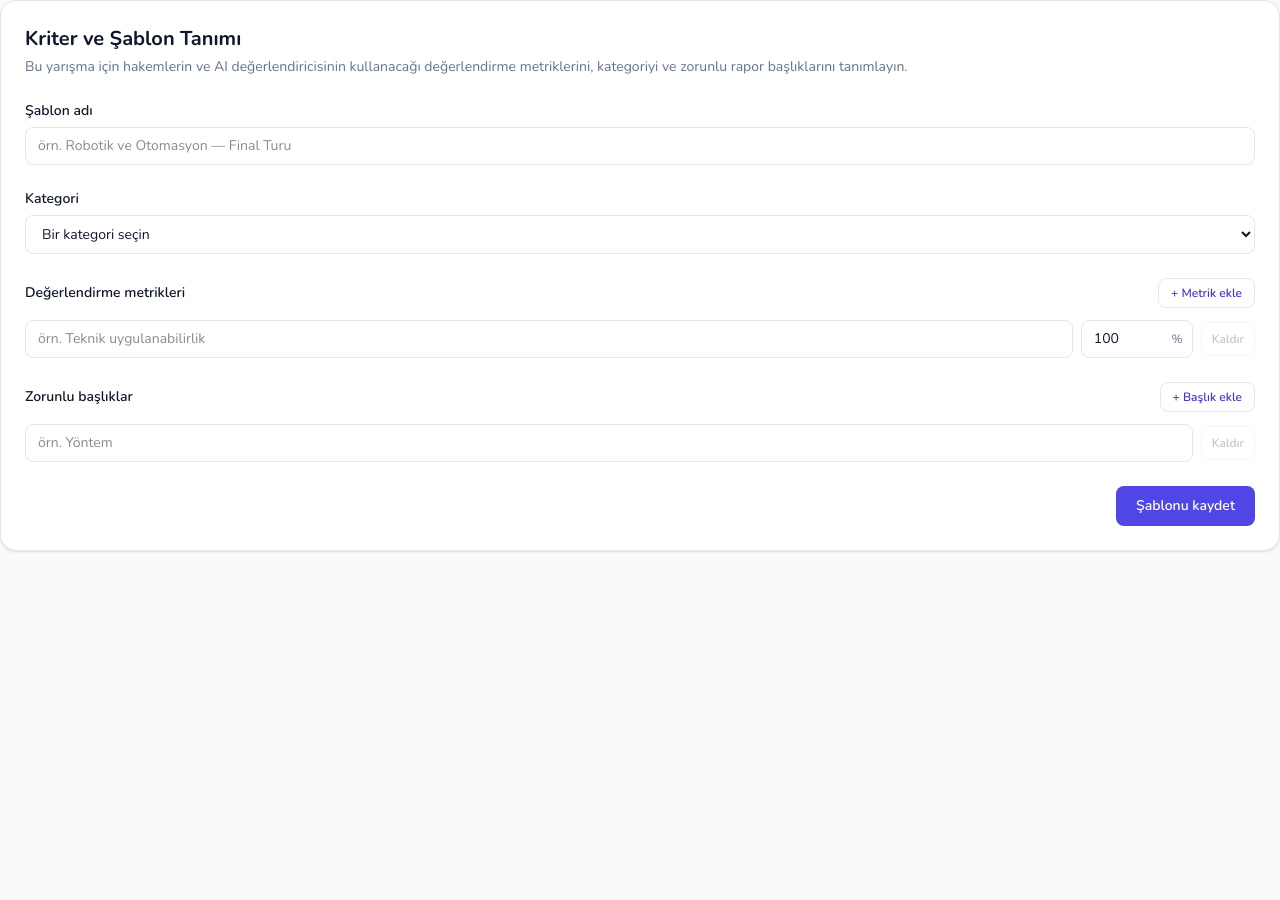
Test: CriteriaTemplateForm › shows validation errors when submitting an empty form
Click the button "Şablonu kaydet" at (1186, 506), box x1=1116 y1=486 x2=1255 y2=526
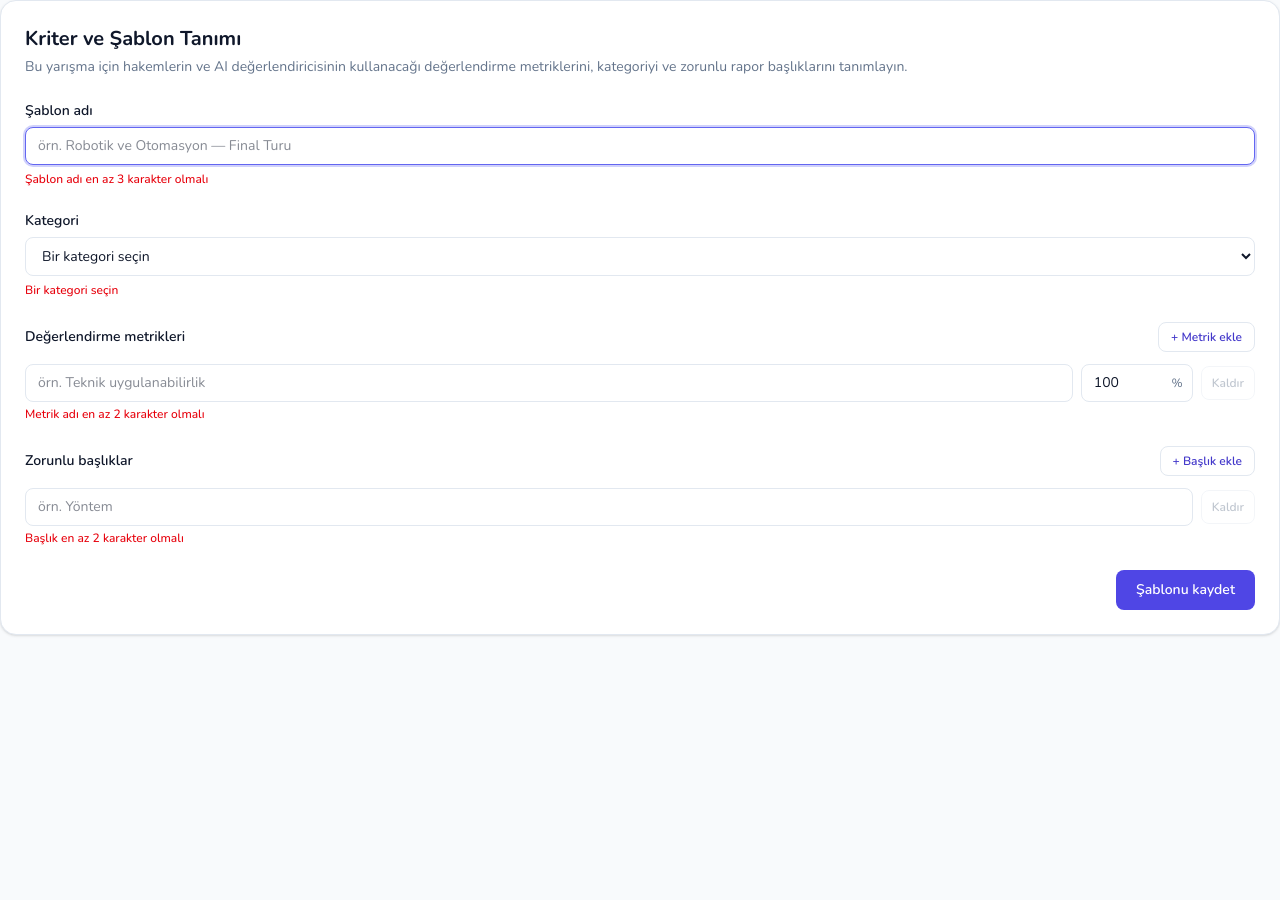
Now the text "Şablon adı en az 3 karakter olmalı" is shown, box x1=25 y1=171 x2=208 y2=187
Now the message with id "category-error" reads "Bir kategori seçin", box x1=25 y1=282 x2=118 y2=298
Now the text "Metrik adı en az 2 karakter olmalı" is shown, box x1=25 y1=406 x2=205 y2=422
